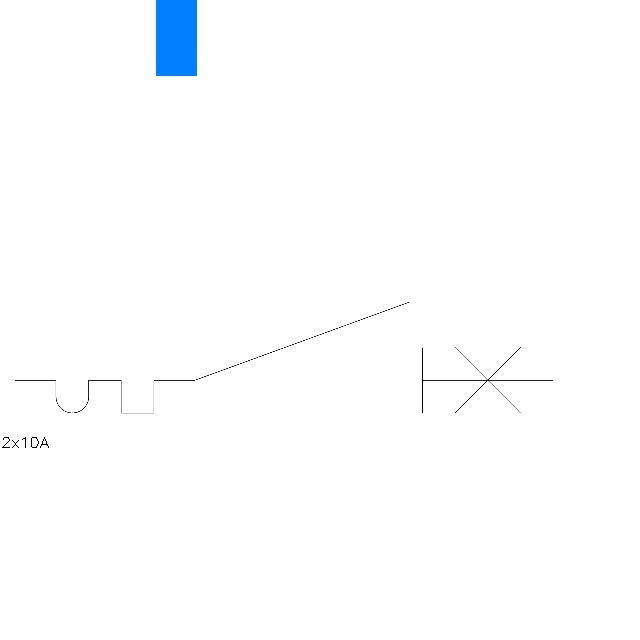interruptor_termomagnetico: (1, 288, 567, 427)
